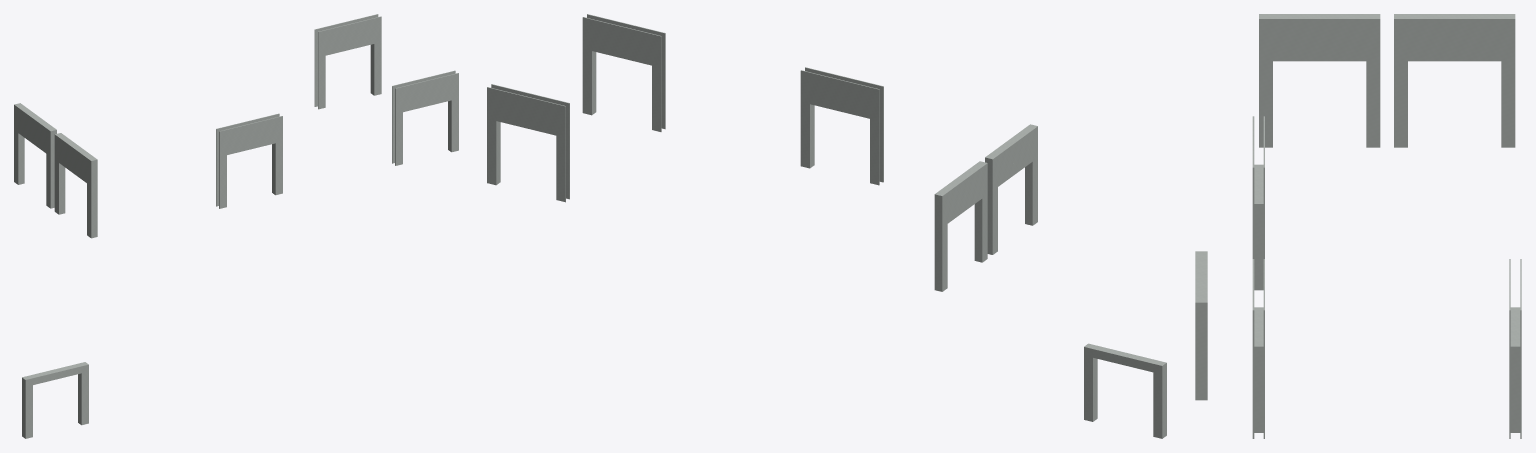
Rendered from AST-STF-G3-040.glb.
The picture shows the model from 3 angles, left to right: view 1: azimuth 30°, elevation 25°; view 2: azimuth 150°, elevation 25°; view 3: azimuth 270°, elevation 25°; orthographic projection. The views are drawn at different scales.
Visible parts, largest first — view 1: door_receiver_staff_white_paint_used_linen_and_closed_waste_, door_receiver_staff_white_paint_maintenance_and_custodial_ca, door_receiver_staff_white_paint_clean_linen_supply_entry, door_receiver_staff_white_paint_clinical_clean, door_receiver_staff_white_paint_clinical_return, door_receiver_staff_white_paint_crew_arrival; view 2: door_receiver_staff_white_paint_clean_linen_supply_entry, door_receiver_staff_white_paint_maintenance_and_custodial_ca, door_receiver_staff_white_paint_used_linen_and_closed_waste_, door_receiver_staff_white_paint_clinical_return, door_receiver_staff_white_paint_clinical_clean, door_receiver_staff_white_paint_crew_arrival; view 3: door_receiver_staff_white_paint_clinical_return, door_receiver_staff_white_paint_clinical_clean, door_receiver_staff_white_paint_crew_arrival, door_receiver_staff_white_paint_maintenance_and_custodial_ca, door_receiver_staff_white_paint_used_linen_and_closed_waste_, door_receiver_staff_white_paint_clean_linen_supply_entry.
Part boxes in pixels (box(x1,y1,x2,y2)): door_receiver_staff_white_paint_used_linen_and_closed_waste_: box(314, 14, 381, 109); door_receiver_staff_white_paint_maintenance_and_custodial_ca: box(392, 70, 458, 165); door_receiver_staff_white_paint_clean_linen_supply_entry: box(216, 113, 282, 208); door_receiver_staff_white_paint_clinical_clean: box(54, 133, 97, 238); door_receiver_staff_white_paint_clinical_return: box(14, 103, 56, 208); door_receiver_staff_white_paint_crew_arrival: box(22, 362, 88, 438); door_receiver_staff_white_paint_clean_linen_supply_entry: box(800, 67, 883, 185); door_receiver_staff_white_paint_maintenance_and_custodial_ca: box(582, 14, 665, 131); door_receiver_staff_white_paint_used_linen_and_closed_waste_: box(487, 84, 569, 202); door_receiver_staff_white_paint_clinical_return: box(934, 161, 987, 291); door_receiver_staff_white_paint_clinical_clean: box(985, 124, 1037, 254); door_receiver_staff_white_paint_crew_arrival: box(1084, 343, 1166, 438); door_receiver_staff_white_paint_clinical_return: box(1394, 14, 1515, 147); door_receiver_staff_white_paint_clinical_clean: box(1259, 14, 1380, 147); door_receiver_staff_white_paint_crew_arrival: box(1195, 251, 1207, 400); door_receiver_staff_white_paint_maintenance_and_custodial_ca: box(1252, 259, 1264, 438); door_receiver_staff_white_paint_used_linen_and_closed_waste_: box(1509, 259, 1521, 438); door_receiver_staff_white_paint_clean_linen_supply_entry: box(1252, 116, 1264, 290).
Size of the model in its own units: 25.6 by 13.2 by 9.66.
1 material, 1 textured.
